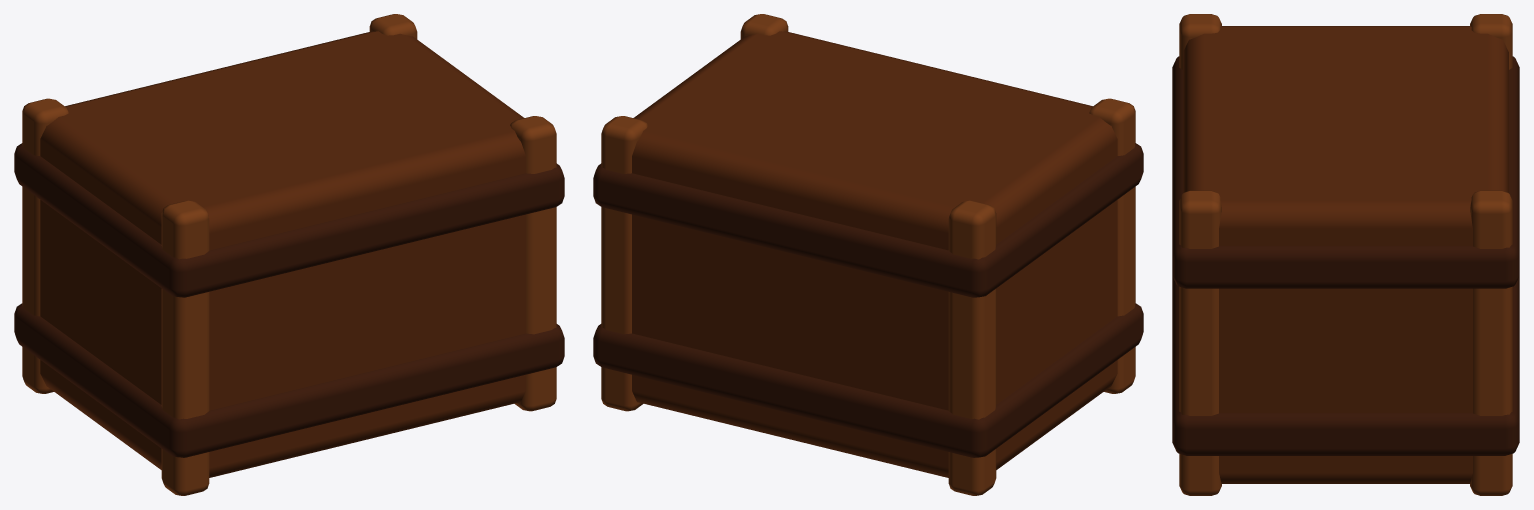
The model's file is thung_go.glb.
3 views of the same model, side by side, from view 1: azimuth 30°, elevation 25°; view 2: azimuth 150°, elevation 25°; view 3: azimuth 270°, elevation 25° (orthographic). The views are drawn at different scales.
Size of the model in its own units: 0.67 by 0.46 by 0.49.
